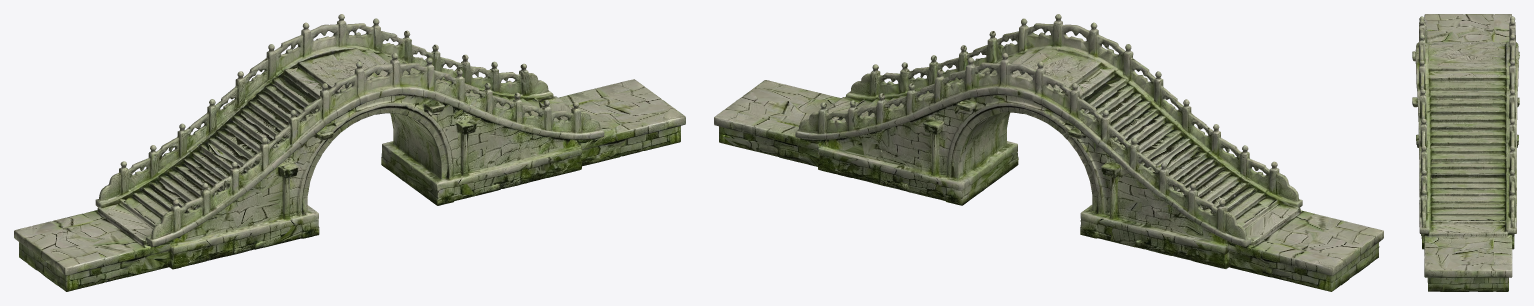
The model's file is Ancient_Stone_Arch_Br.glb.
3 renders of one model, left to right at view 1: azimuth 30°, elevation 25°; view 2: azimuth 150°, elevation 25°; view 3: azimuth 270°, elevation 25°, orthographic. The views are drawn at different scales.
Visible parts, largest first — view 1: Ancient_Stone_Arch_Br; view 2: Ancient_Stone_Arch_Br; view 3: Ancient_Stone_Arch_Br.
Part boxes in pixels (<box>): Ancient_Stone_Arch_Br: <box>14,14,685,291</box>; Ancient_Stone_Arch_Br: <box>714,14,1383,291</box>; Ancient_Stone_Arch_Br: <box>1412,14,1519,291</box>.
Bounding box in the file's own units: 1.9 × 0.4748 × 0.3364.
Materials: 1 (1 with a texture image).
